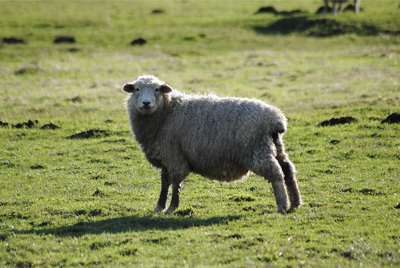koyun: (123, 76, 302, 213)
